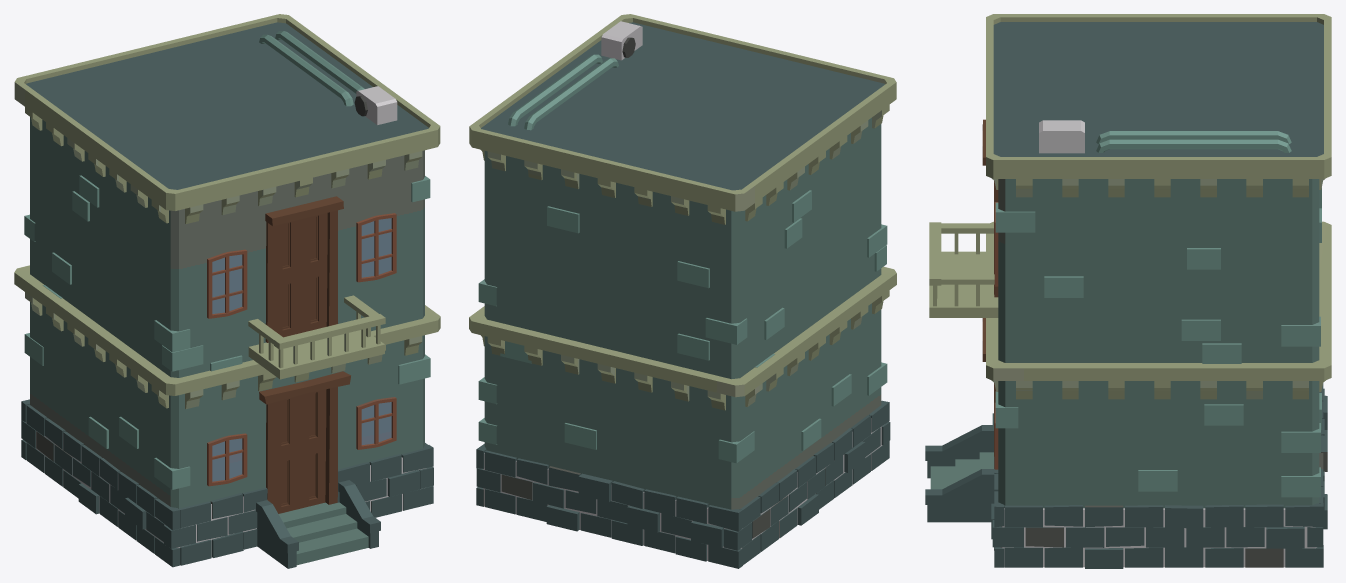
Rendered from 2Story Balcony.glb.
The picture shows the model from 3 angles, left to right: view 1: azimuth 30°, elevation 25°; view 2: azimuth 150°, elevation 25°; view 3: azimuth 270°, elevation 25°; orthographic projection. The views are drawn at different scales.
Parts seen in each view (by area): view 1: 2Story_Balcony; view 2: 2Story_Balcony; view 3: 2Story_Balcony.
Part boxes in pixels (x1,y1,x2,y2): 2Story_Balcony: [14, 14, 440, 568]; 2Story_Balcony: [469, 14, 896, 568]; 2Story_Balcony: [925, 14, 1331, 568].
Bounding box in the file's own units: 5.18 × 7.07 × 6.08.
Materials: 1 (1 with a texture image).
